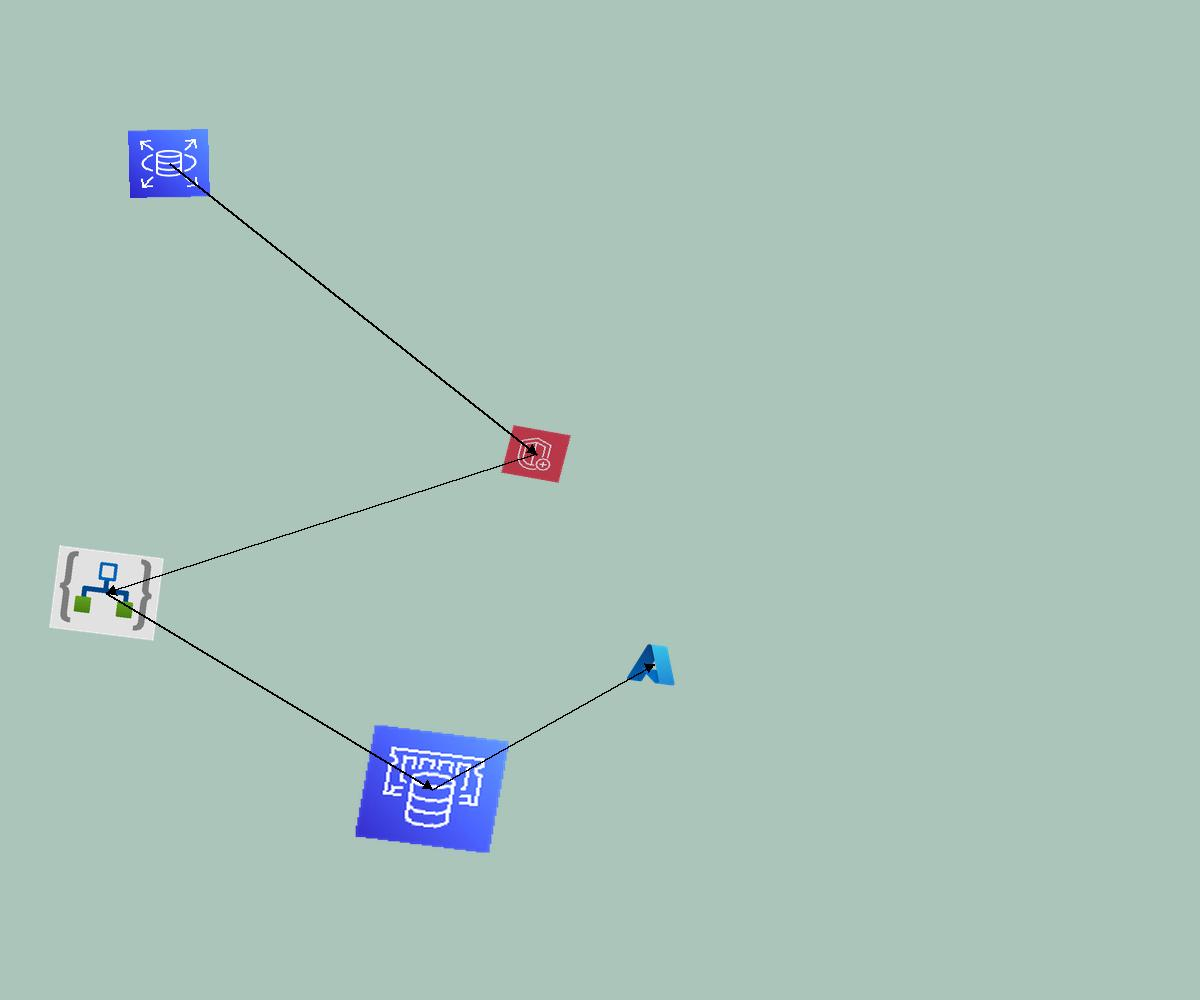AWS-ElastiCache: (354, 724, 510, 854)
AWS-RDS: (128, 129, 210, 198)
AWS-Shield: (501, 425, 571, 483)
Azure_integration-204-Logic-Apps: (49, 545, 164, 641)
Azure_services: (624, 639, 684, 689)
